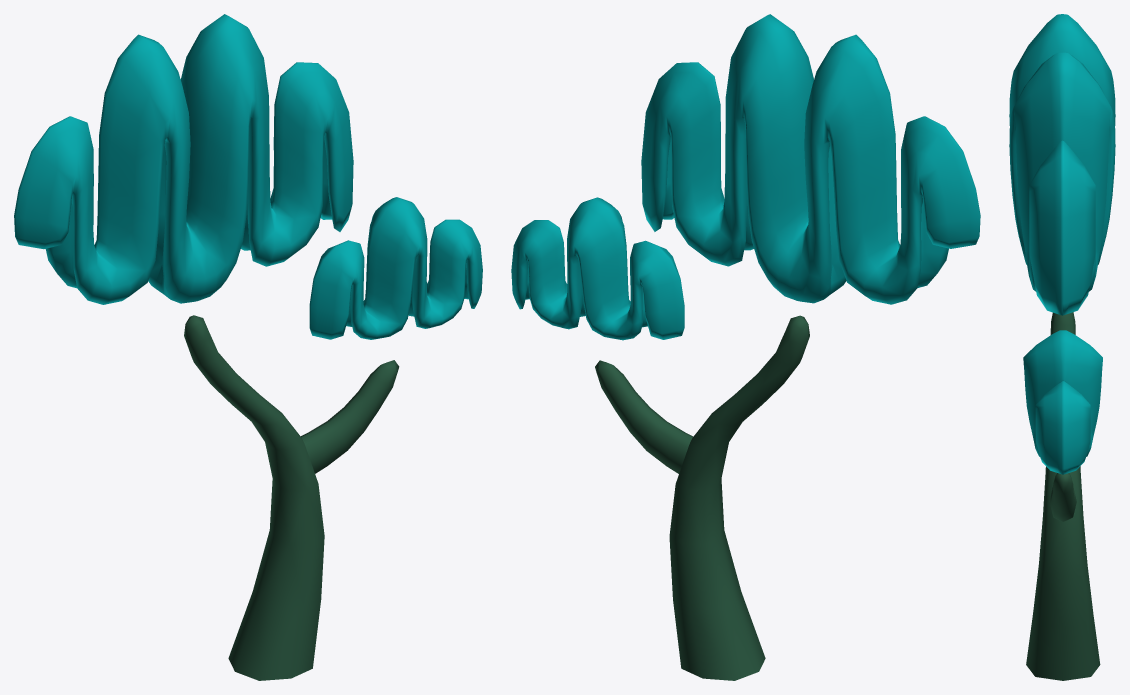
File: tree_floating_3.glb
The picture shows the model from 3 angles, left to right: view 1: azimuth 30°, elevation 25°; view 2: azimuth 150°, elevation 25°; view 3: azimuth 270°, elevation 25°; orthographic projection. The views are drawn at different scales.
Parts seen in each view (by area): view 1: Tree_Floating_3; view 2: Tree_Floating_3; view 3: Tree_Floating_3.
Part boxes in pixels (x1=…): Tree_Floating_3: x1=14, y1=14, x2=482, y2=680; Tree_Floating_3: x1=511, y1=14, x2=980, y2=680; Tree_Floating_3: x1=1009, y1=14, x2=1115, y2=680.
Bounding box in the file's own units: 3.87 × 5.21 × 0.843.
1 material, 1 textured.
